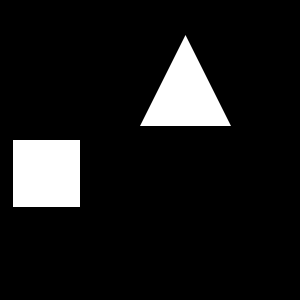circle: (13, 140, 80, 207)
triangle: (140, 35, 231, 126)
